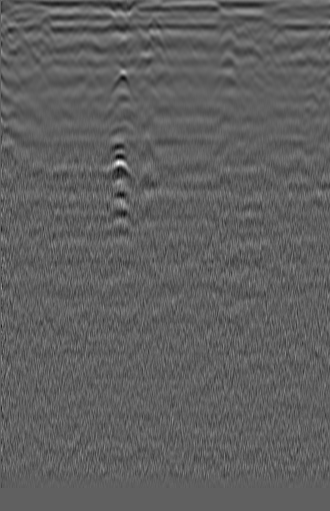가스: (100, 154, 136, 189)
상수: (2, 22, 38, 65)
오수: (290, 32, 322, 60)
우수: (138, 28, 169, 55)
